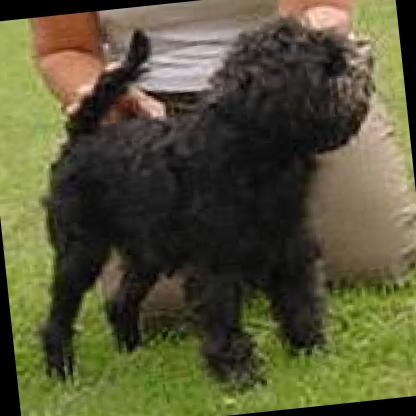affenpinscher: (0, 0, 410, 413)
